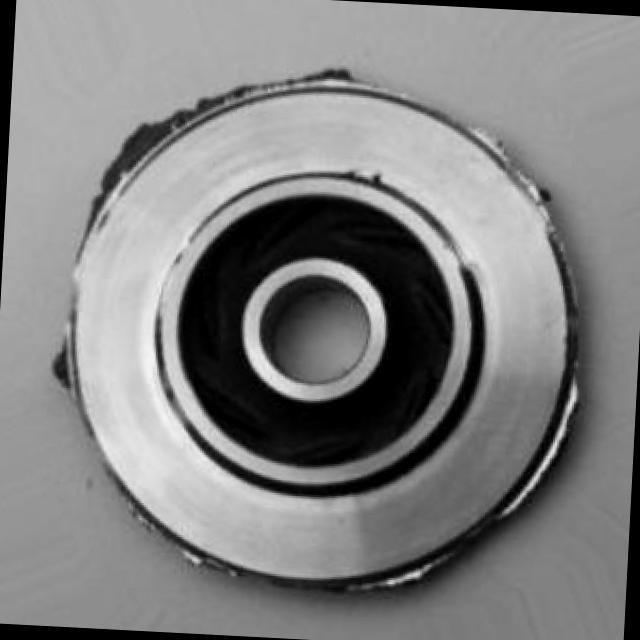Defect: (103, 110, 188, 164)
